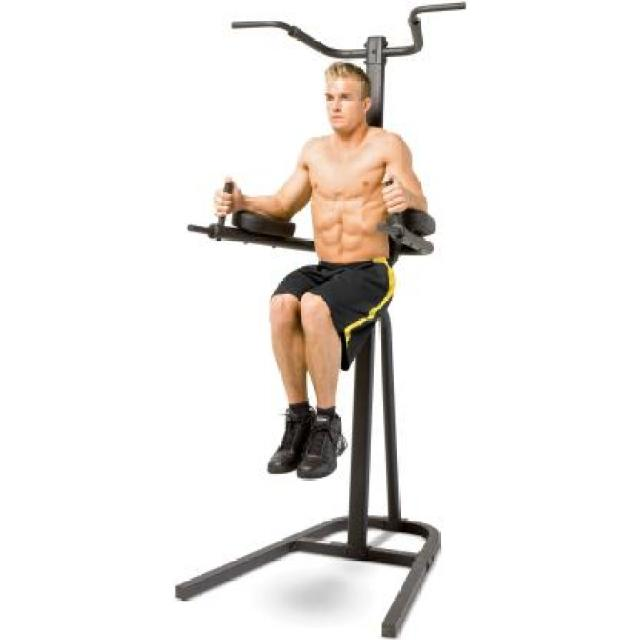chinning dipping: (185, 0, 464, 640)
